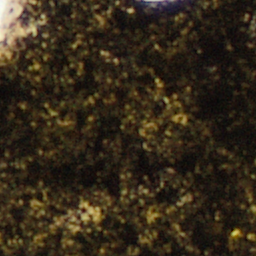cement_matrix: (0, 0, 255, 255), (85, 208, 97, 218)
gravel_crushed_stones: (0, 0, 35, 57), (143, 0, 171, 3), (86, 209, 96, 217)
